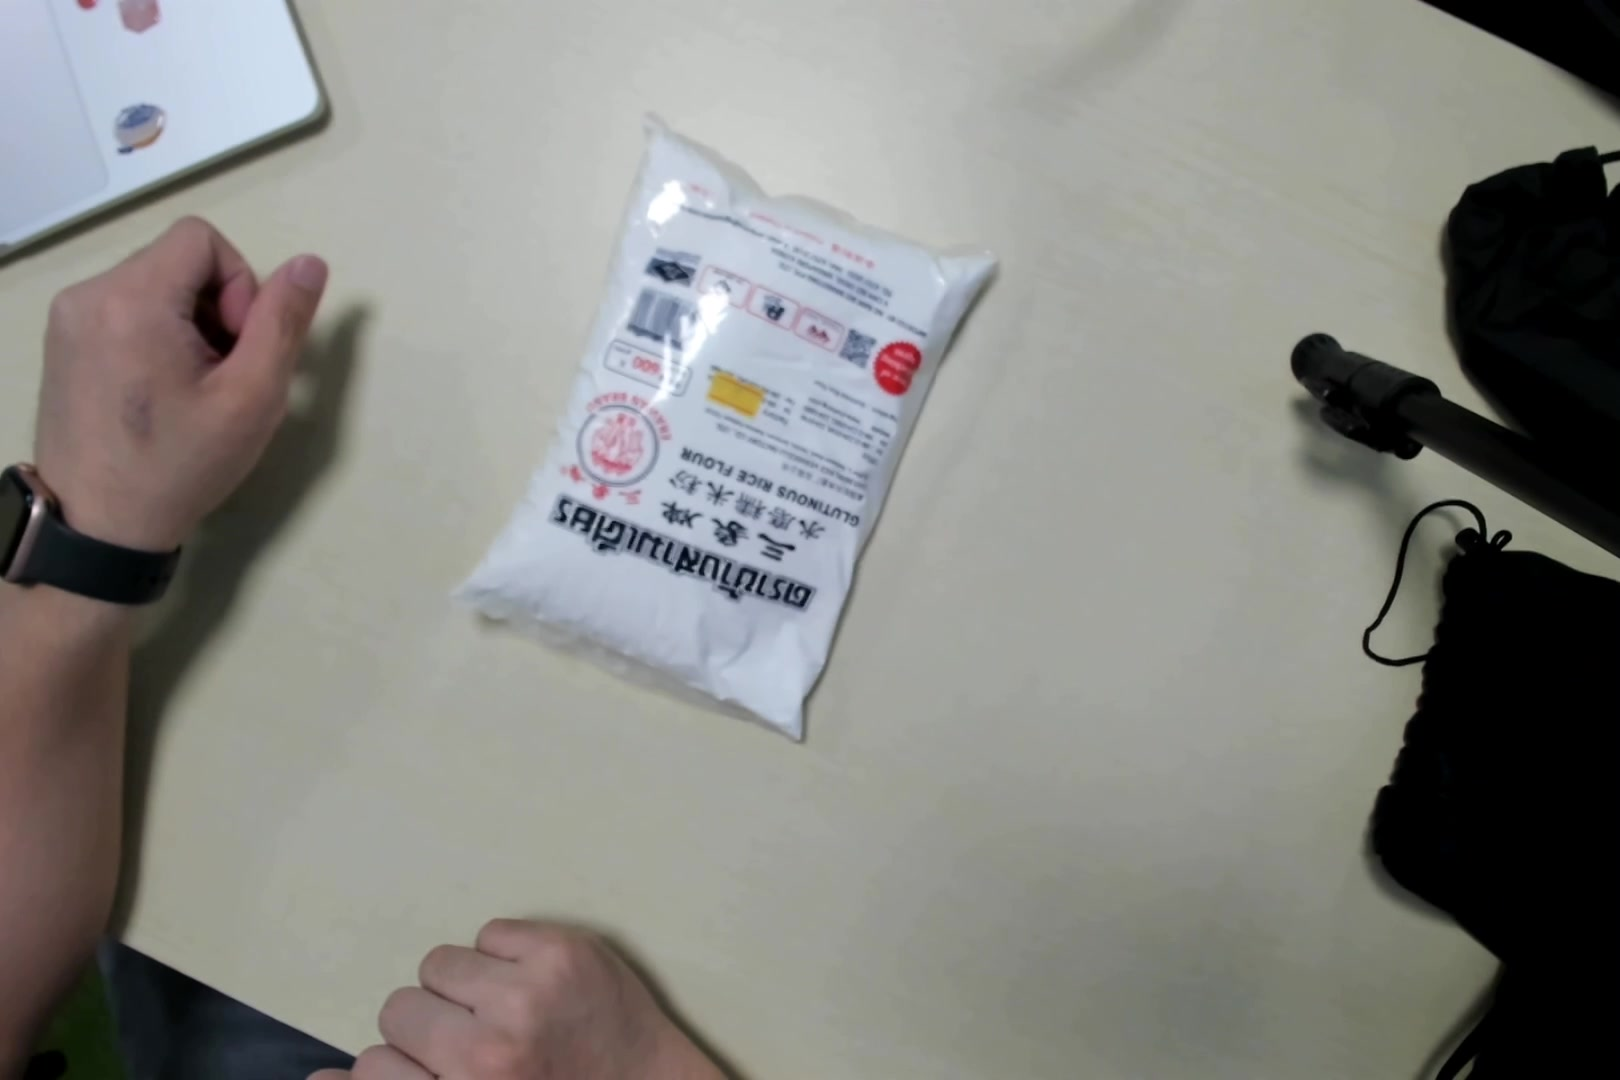OtherBakingNeeds_600-699g_Halal_NonHealthy: (442, 122, 1003, 736)
